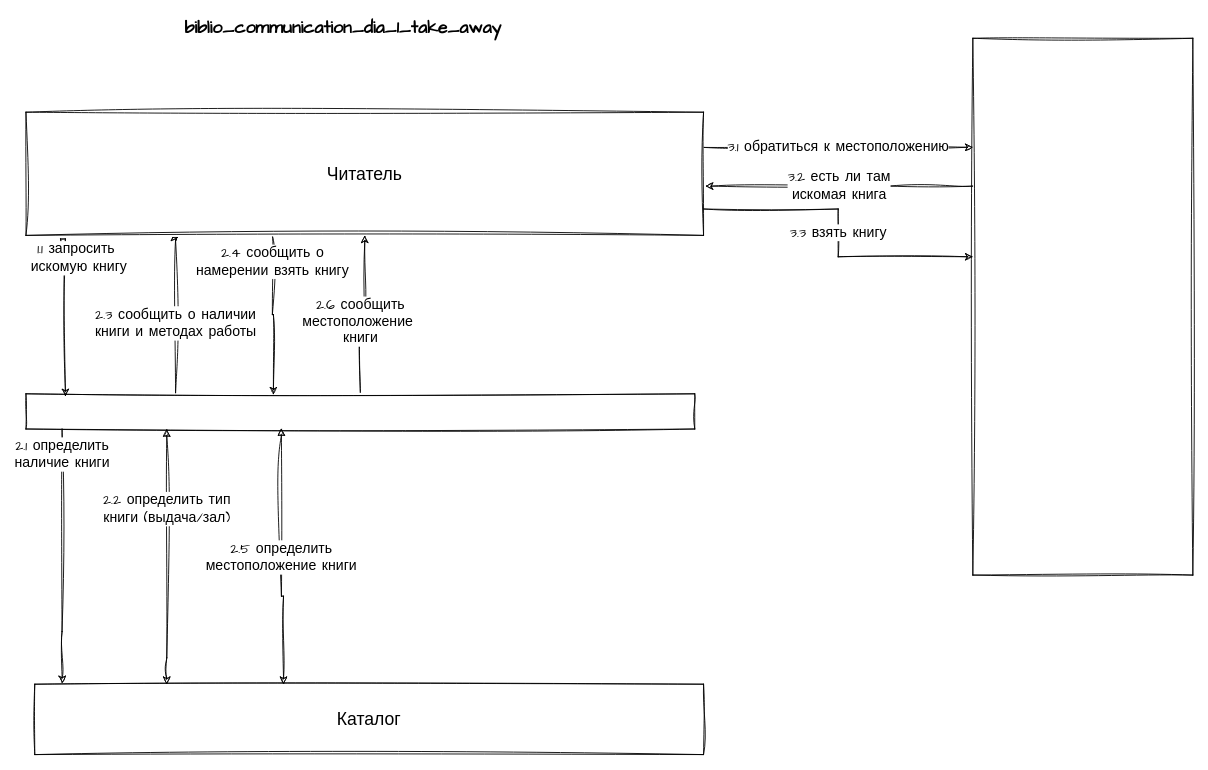
The diagram is 1208 pixels wide and 770 high, and some of its shapes have lost their labels. The shapes that lost their labels are listed below. From the top down, each one's centre as x and y in pixels, then its label:
the point at 1082,306: КнигоХранилище
the point at 360,411: Библиотекарь
